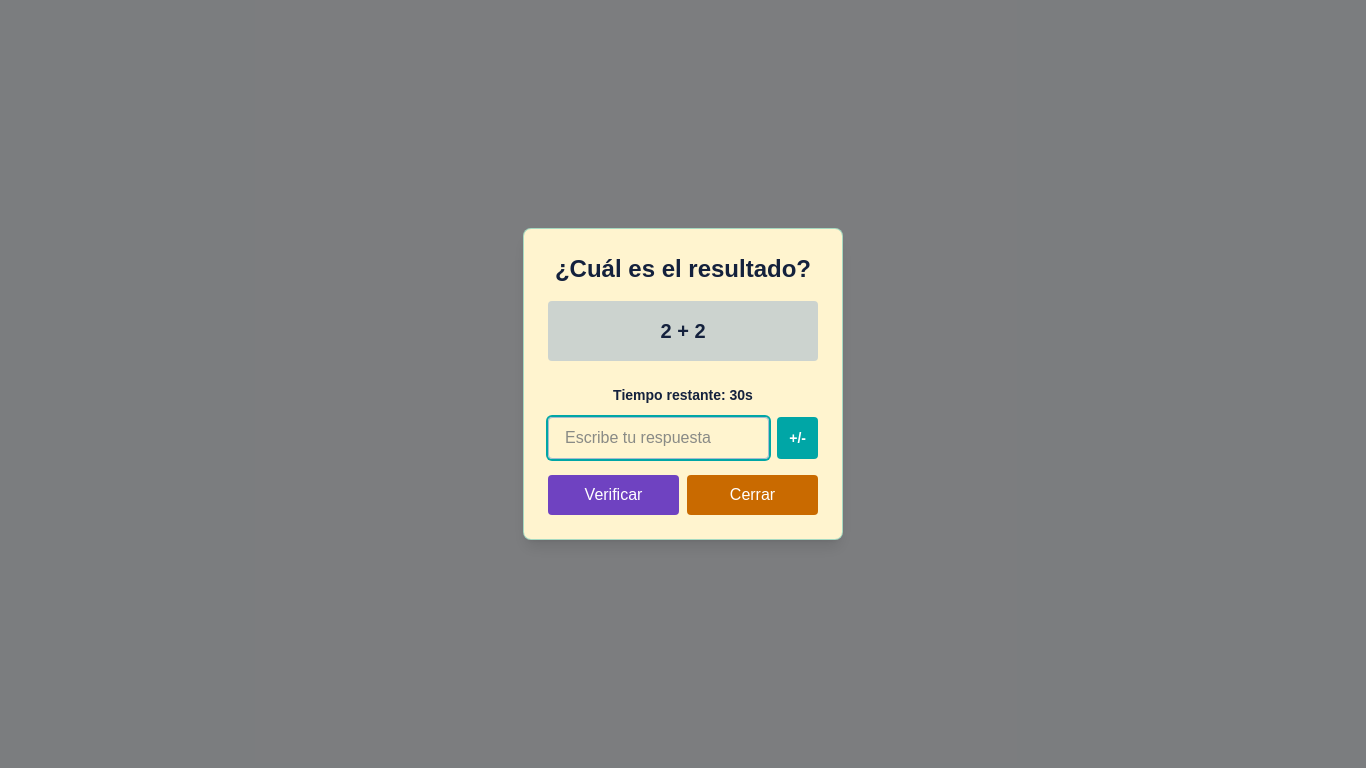
Test: QuestionModal answer flow › marks answer as incorrect and decreases one life
Type "5" into the field with placeholder "Escribe tu respuesta".
click(659, 438); type("5")  # box x1=548 y1=417 x2=769 y2=459
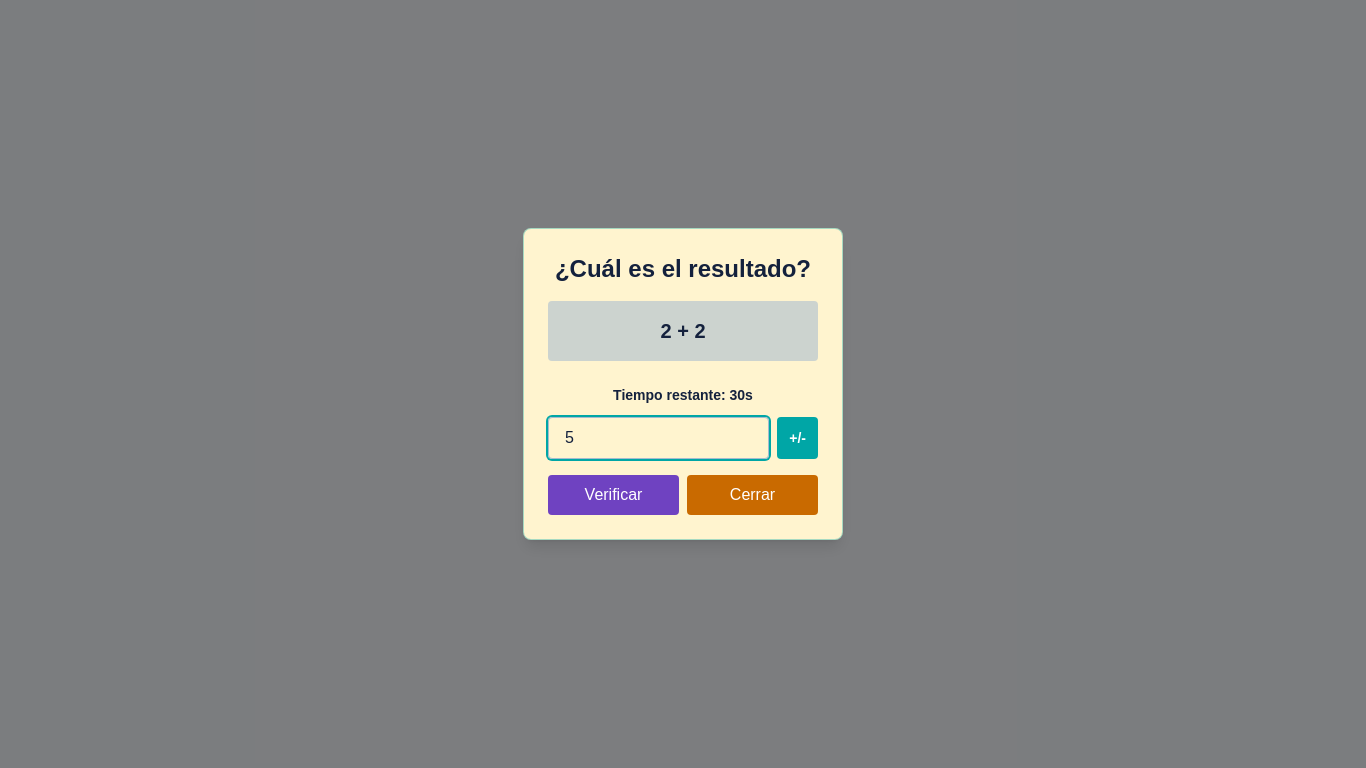
Click the button "Verificar".
click(614, 495)  # box x1=548 y1=475 x2=679 y2=515
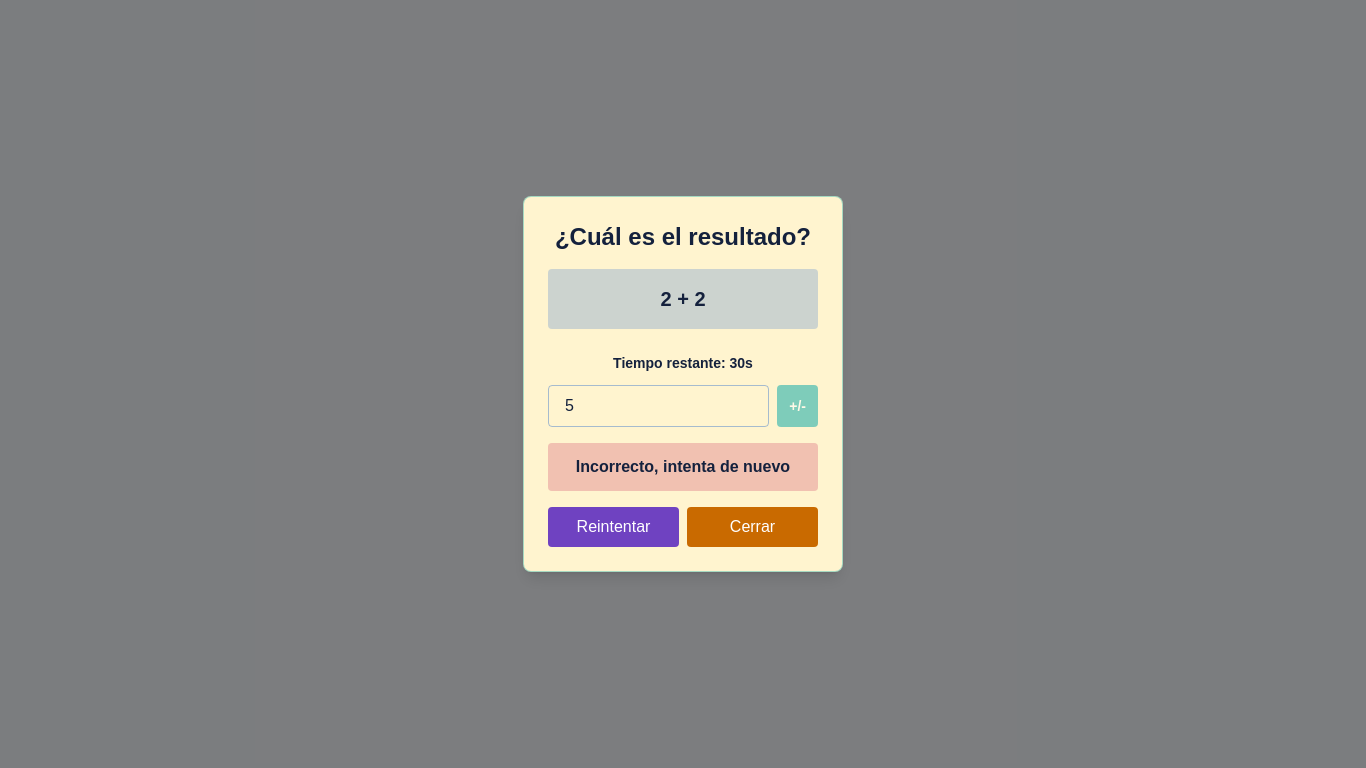
Expected: the text "Incorrecto, intenta de nuevo" is shown, x1=548 y1=443 x2=818 y2=491
